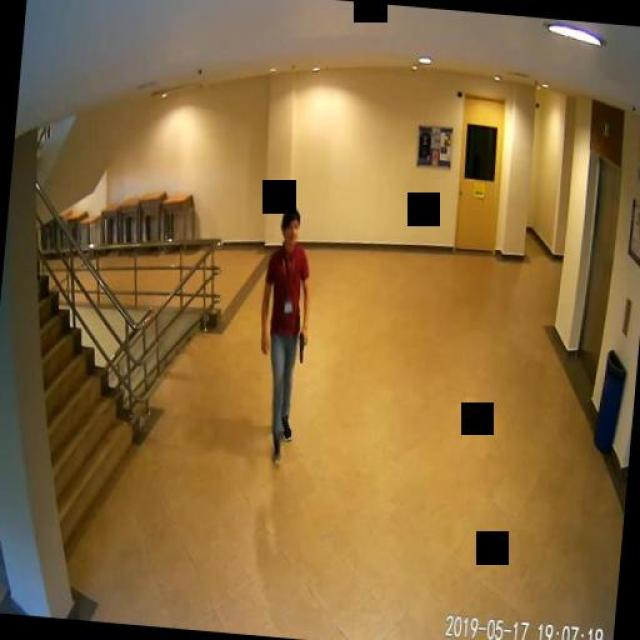gun: (295, 330, 306, 361)
